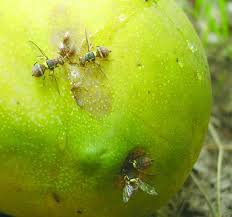damaged_apple: (13, 29, 196, 213)
